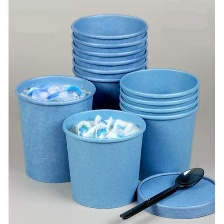paper_cup: (114, 63, 203, 186), (11, 70, 99, 186), (59, 104, 149, 212), (65, 9, 152, 113), (132, 167, 214, 223)
